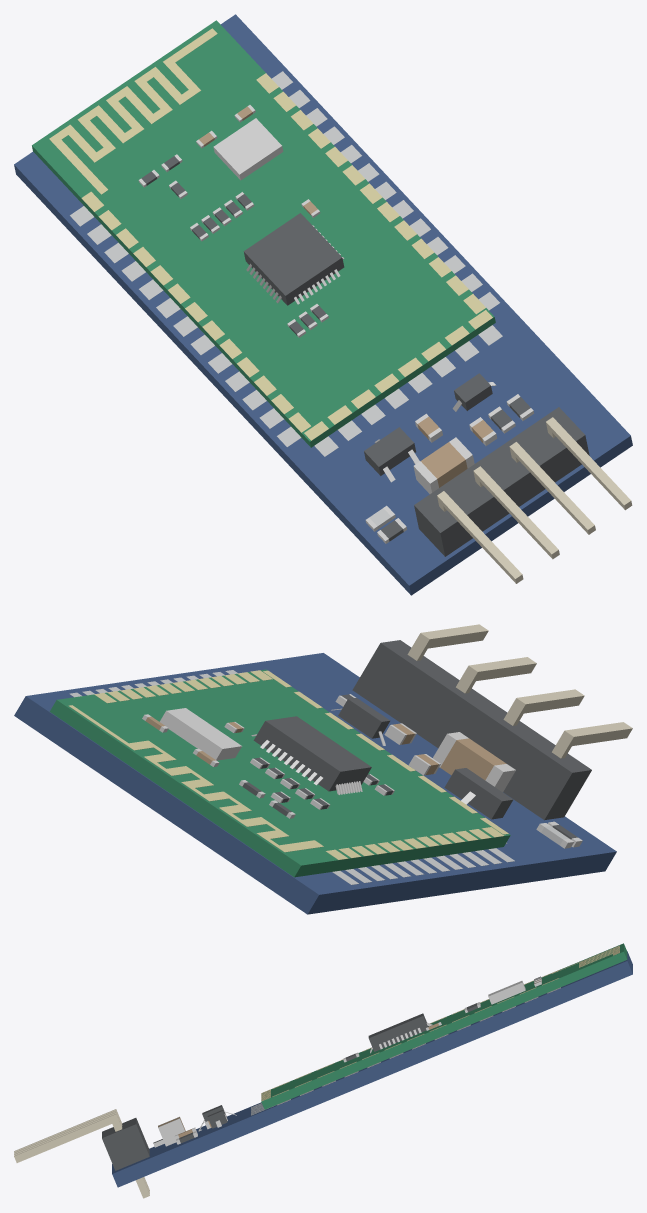
The model's file is SampleChipTilted.glb.
3 renders of one model, top to bottom at view 1: azimuth 30°, elevation 25°; view 2: azimuth 150°, elevation 25°; view 3: azimuth 270°, elevation 25°, orthographic. The views are drawn at different scales.
Parts seen in each view (by area): view 1: Mesh_Mesh_head_geo.001_lambert2SG.001; view 2: Mesh_Mesh_head_geo.001_lambert2SG.001; view 3: Mesh_Mesh_head_geo.001_lambert2SG.001.
Boxes of the visible parts, left/top/right/bottom form: Mesh_Mesh_head_geo.001_lambert2SG.001: left=14, top=14, right=632, bottom=595; Mesh_Mesh_head_geo.001_lambert2SG.001: left=14, top=624, right=632, bottom=914; Mesh_Mesh_head_geo.001_lambert2SG.001: left=14, top=943, right=632, bottom=1198.
Bounding box in the file's own units: 20.3 × 20.24 × 41.96.
